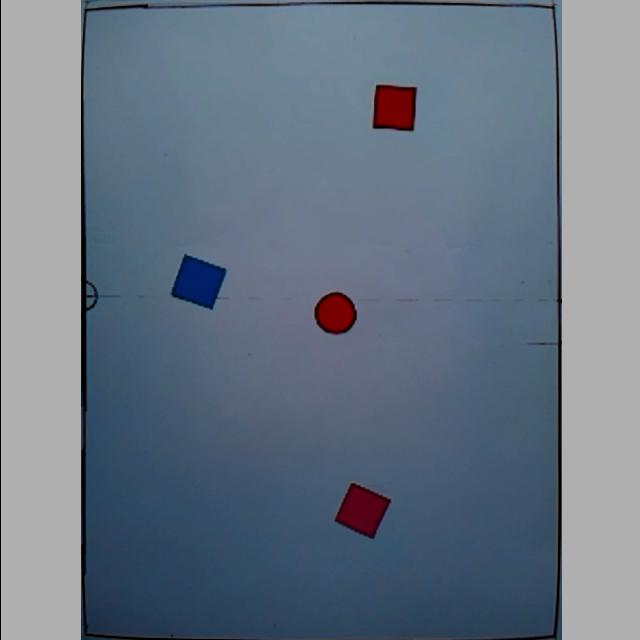blueSquare: (168, 252, 225, 310)
pinkSquare: (331, 482, 389, 538)
redCircle: (312, 291, 356, 335)
redSquare: (369, 84, 415, 130)
